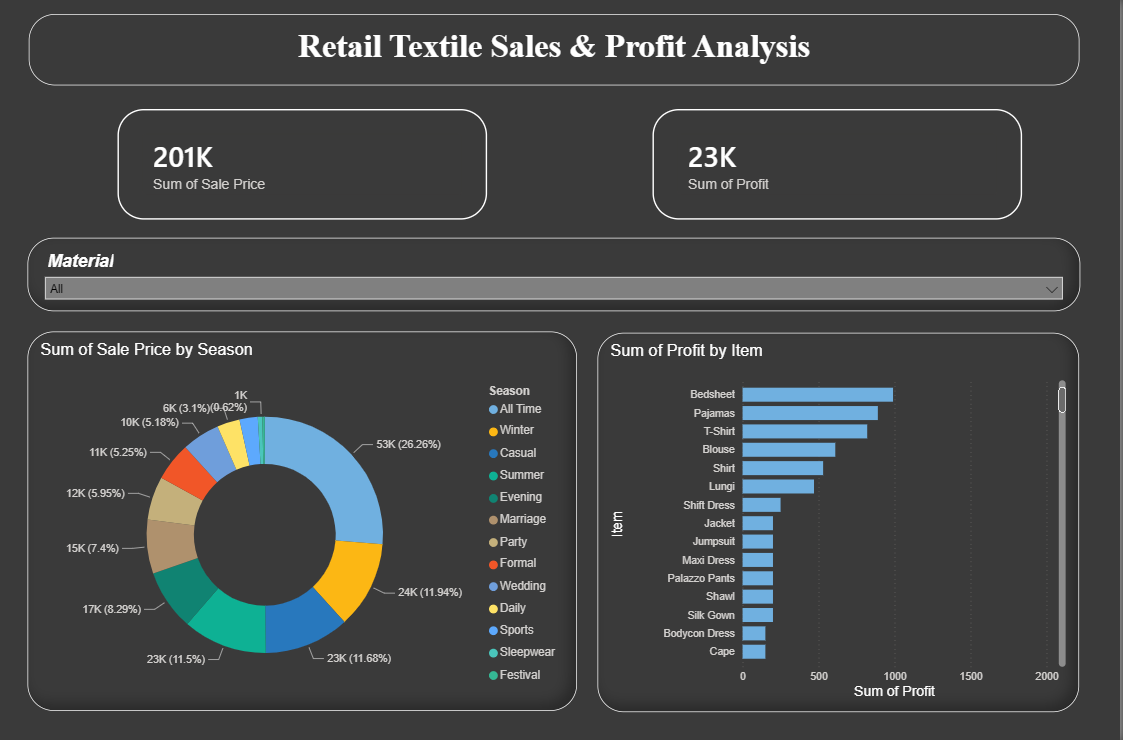

What the dashboard file says about the page in this screenshot:
{"tool":"powerbi","page":{"name":"Page 1","canvas":[1280,850],"ordinal":0},"visuals":[{"type":"textbox","box":[32.6,17.4,1201.2,81.4],"z":0},{"type":"cardVisual","fields":{"Data":["Sum(Textile_data2 txt.Sale Price)"]},"box":[133.8,125,422.5,126.2],"z":1000},{"type":"donutChart","fields":{"Category":["Textile_data2 txt.Season"],"Y":["Sum(Textile_data2 txt.Sale Price)"]},"box":[31.4,380,627.9,433.7],"z":3000},{"type":"clusteredBarChart","fields":{"Category":["Textile_data2 txt.Item"],"Y":["Sum(Textile_data2 txt.Profit)"]},"box":[682.9,381.4,550,433.7],"z":4000},{"type":"slicer","fields":{"Values":["Textile_data2 txt.Material"]},"box":[31.4,272.9,1202.9,84.3],"z":4001},{"type":"cardVisual","fields":{"Data":["Sum(Textile_data2 txt.Profit)"]},"box":[746.2,125,422.5,126.2],"z":4002}]}

Visuals, with their boxes in screenshot pixels (x1, y1, x2, y2), scaled from the page's 1280x850 canvas onto the 1123x740 screenshot:
textbox: pyautogui.locateOnScreen(29, 15, 1082, 86)
cardVisual - Sum(Textile_data2 txt.Sale Price): pyautogui.locateOnScreen(117, 109, 488, 219)
donutChart - Textile_data2 txt.Season x Sum(Textile_data2 txt.Sale Price): pyautogui.locateOnScreen(28, 331, 578, 708)
clusteredBarChart - Textile_data2 txt.Item x Sum(Textile_data2 txt.Profit): pyautogui.locateOnScreen(599, 332, 1082, 710)
slicer - Textile_data2 txt.Material: pyautogui.locateOnScreen(28, 238, 1083, 311)
cardVisual - Sum(Textile_data2 txt.Profit): pyautogui.locateOnScreen(655, 109, 1025, 219)
